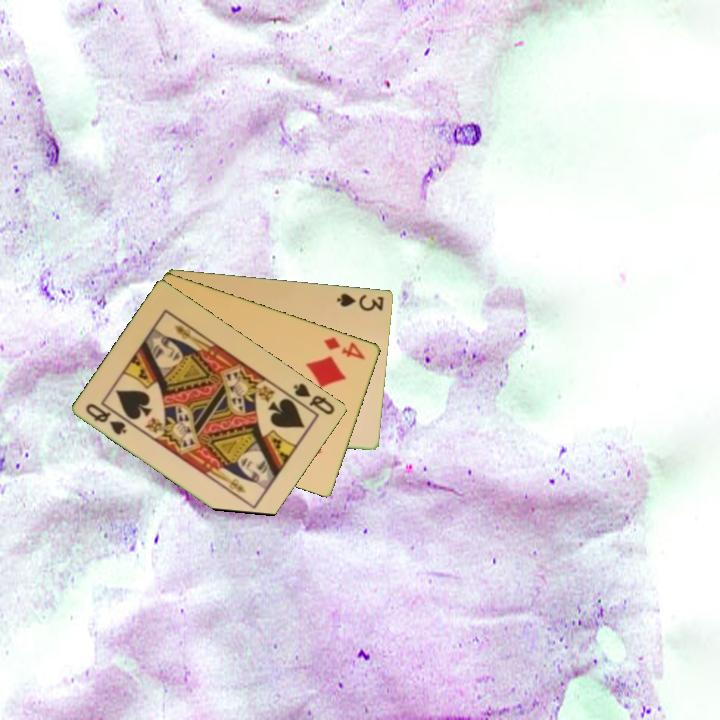3s: (334, 290, 387, 314)
4d: (320, 333, 368, 362)
Qs: (290, 379, 338, 418), (82, 399, 130, 438)
